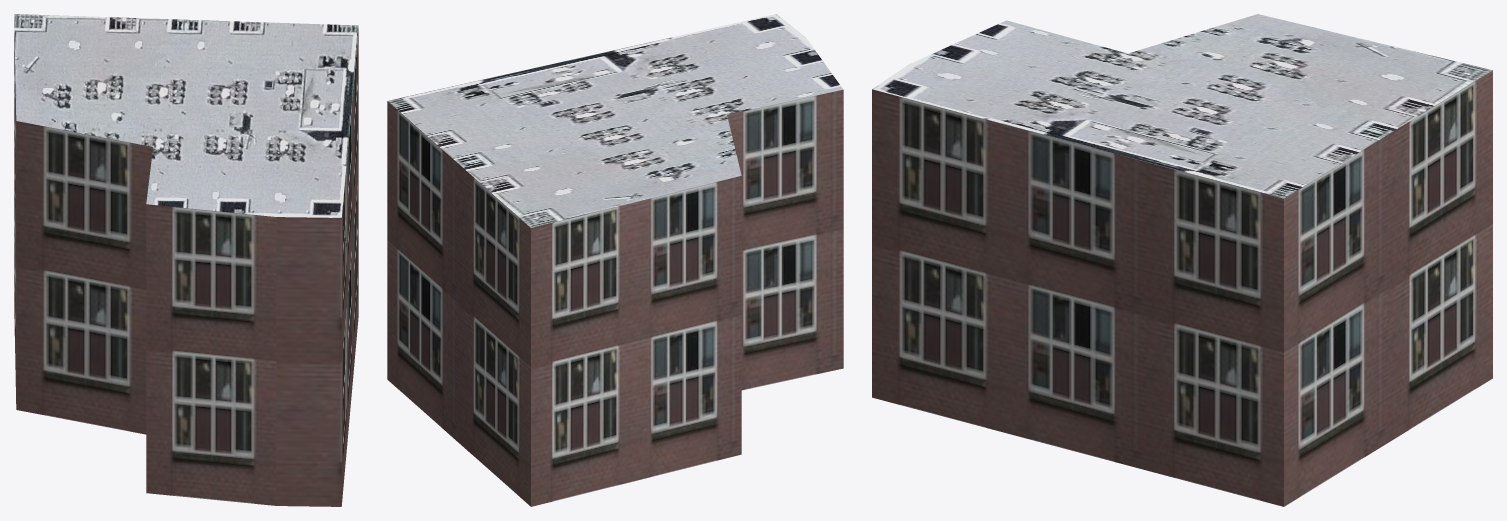
Rendered from ResTex__3548.fbx.
3 views of the same model, side by side, from view 1: azimuth 30°, elevation 25°; view 2: azimuth 150°, elevation 25°; view 3: azimuth 270°, elevation 25° (orthographic). The views are drawn at different scales.
Parts seen in each view (by area): view 1: CityEngineMaterial_12_m, CityEngineMaterial_m; view 2: CityEngineMaterial_12_m, CityEngineMaterial_m; view 3: CityEngineMaterial_12_m, CityEngineMaterial_m.
Boxes of the visible parts, box(x1,y1,x2,y2) form: CityEngineMaterial_12_m: box(14, 29, 358, 506); CityEngineMaterial_m: box(14, 14, 358, 217); CityEngineMaterial_12_m: box(387, 89, 843, 506); CityEngineMaterial_m: box(388, 14, 842, 227); CityEngineMaterial_12_m: box(872, 70, 1492, 506); CityEngineMaterial_m: box(872, 14, 1492, 198).
Size of the model in its own units: 7.71 by 6 by 10.95.
2 materials, 2 textured.
